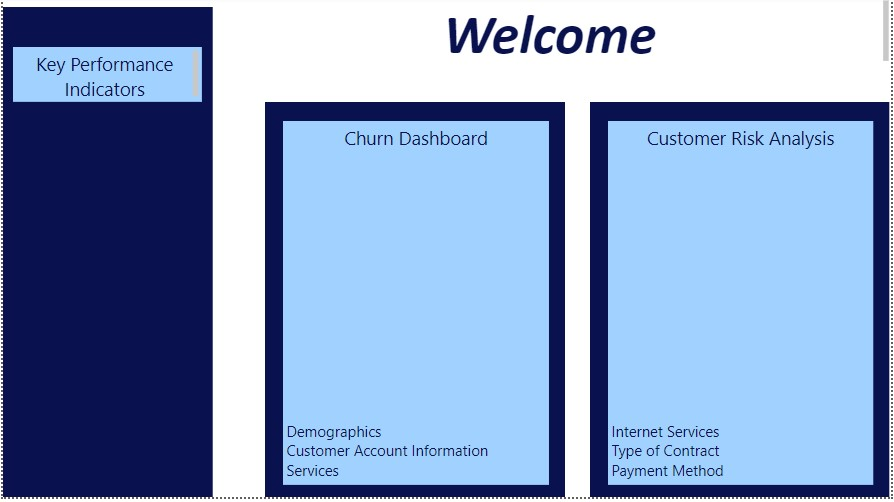

The page's visual inventory and layout, read from the dashboard file:
{"tool":"powerbi","page":{"name":"Welcome","canvas":[1280,720],"ordinal":0},"visuals":[{"type":"textbox","box":[302.4,0,400,102.5],"z":0},{"type":"textbox","box":[0,15.1,302.4,705.5],"z":1000},{"type":"textbox","box":[378,151.2,431.7,569.4],"z":2000},{"type":"textbox","box":[844.9,151.2,431,569.4],"z":3000},{"type":"textbox","box":[15.1,72.2,272.1,79],"z":4000},{"type":"textbox","box":[403.1,178.1,383,524.1],"z":5000},{"type":"textbox","box":[871.8,178.1,382,524.1],"z":6000}]}

Visuals, with their boxes in screenshot pixels (x1, y1, x2, y2), scaled from the page's 1280x720 canvas onto the 894x502 screenshot:
textbox: 211, 0, 491, 71
textbox: 0, 11, 211, 501
textbox: 264, 105, 566, 501
textbox: 590, 105, 891, 501
textbox: 11, 50, 201, 105
textbox: 282, 124, 549, 490
textbox: 609, 124, 876, 490
